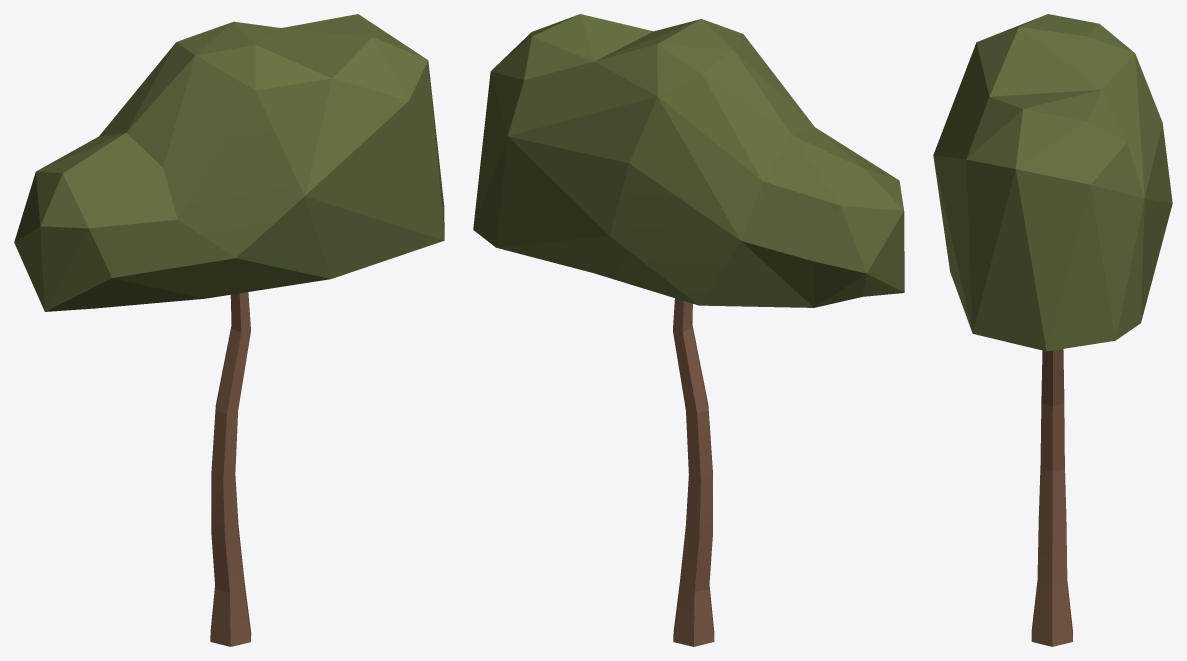
File: deciduous_tree_3.fbx
The picture shows the model from 3 angles, left to right: view 1: azimuth 30°, elevation 25°; view 2: azimuth 150°, elevation 25°; view 3: azimuth 270°, elevation 25°; orthographic projection.
Parts seen in each view (by area): view 1: deciduous_tree_3; view 2: deciduous_tree_3; view 3: deciduous_tree_3.
Part boxes in pixels (box(x1,y1,x2,y2)): deciduous_tree_3: box(14, 14, 444, 646); deciduous_tree_3: box(473, 14, 904, 646); deciduous_tree_3: box(933, 14, 1172, 646).
Bounding box in the file's own units: 442 × 619 × 219.
